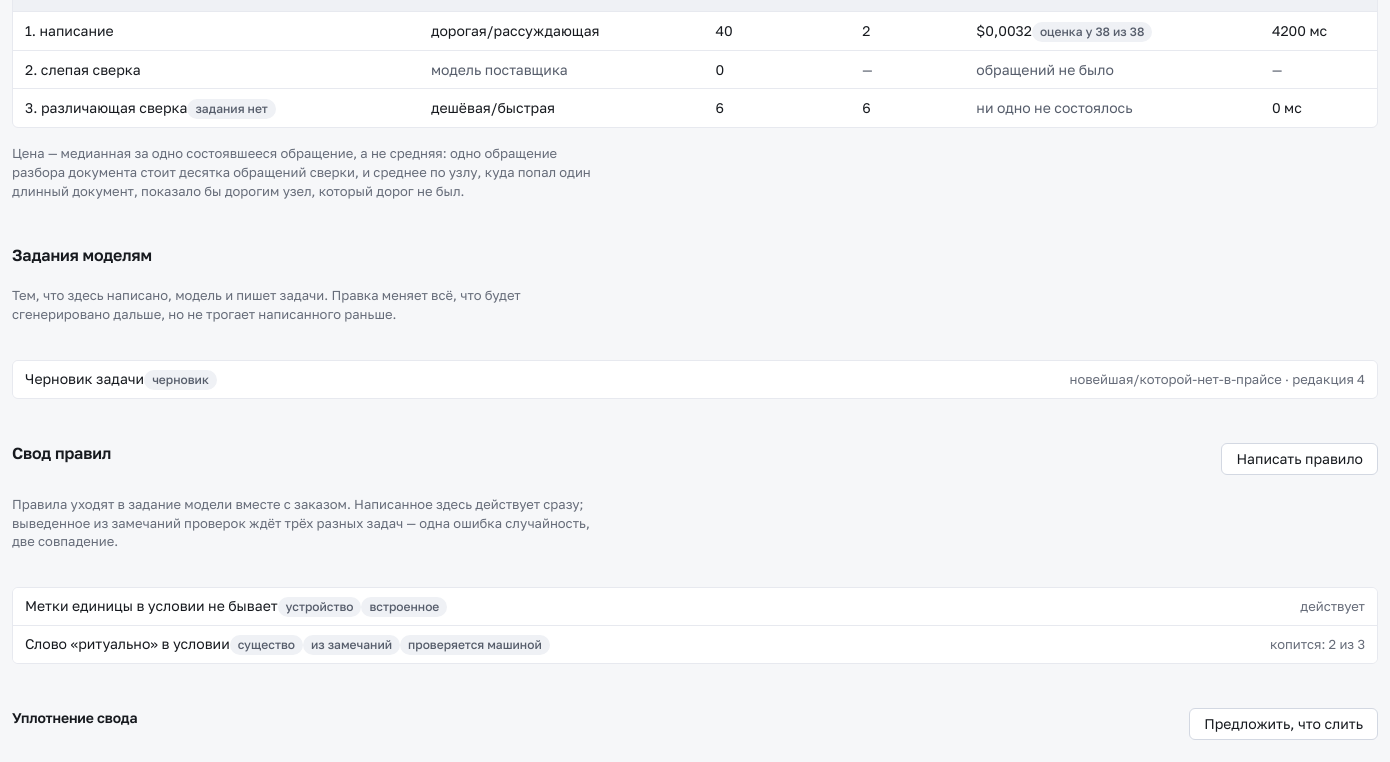
Test: мастерская › модель, которой нет в прайсе, из поля не пропадает
(page scrolled)
Click the text "Черновик задачи" at [121, 379], box [25,369,217,390]
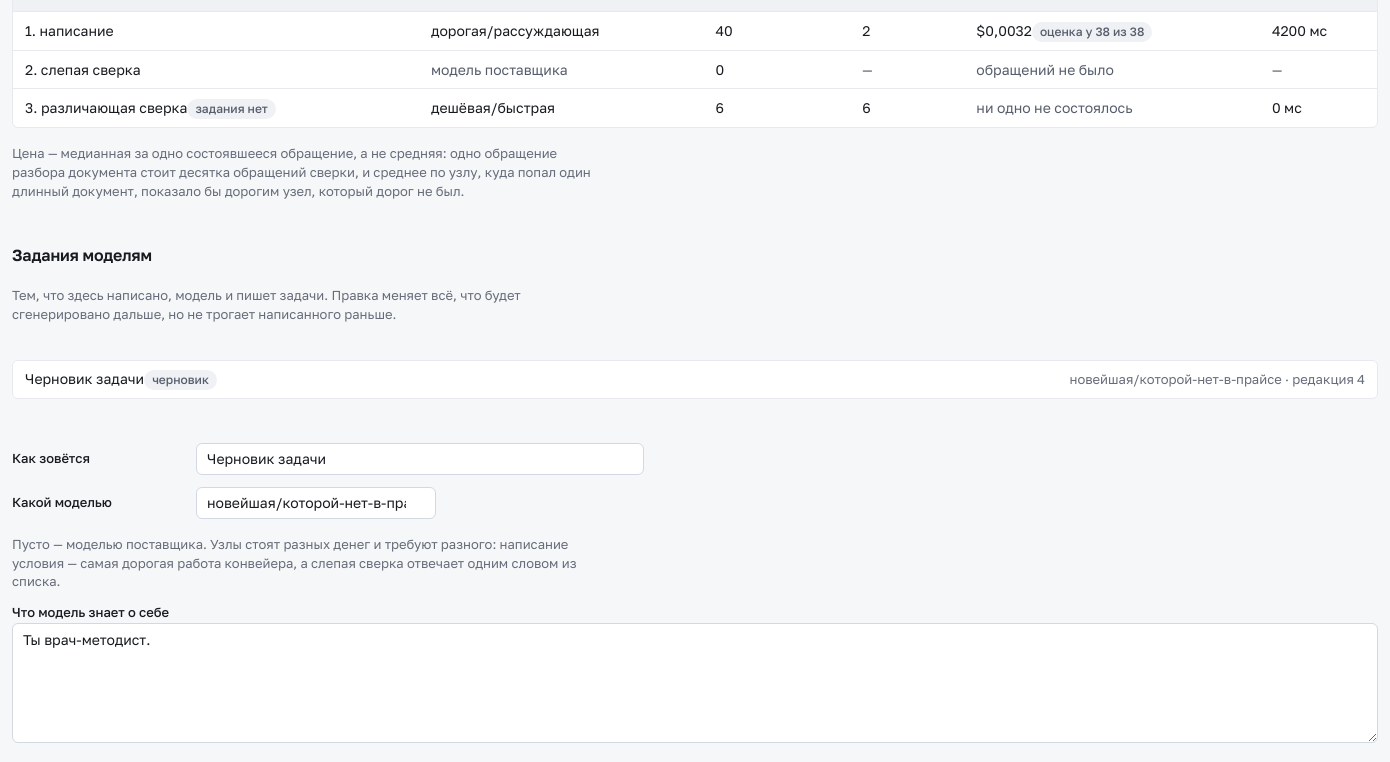
Check: the field showing "новейшая/которой-нет-в-прайсе" is shown, box [196,487,436,519]
